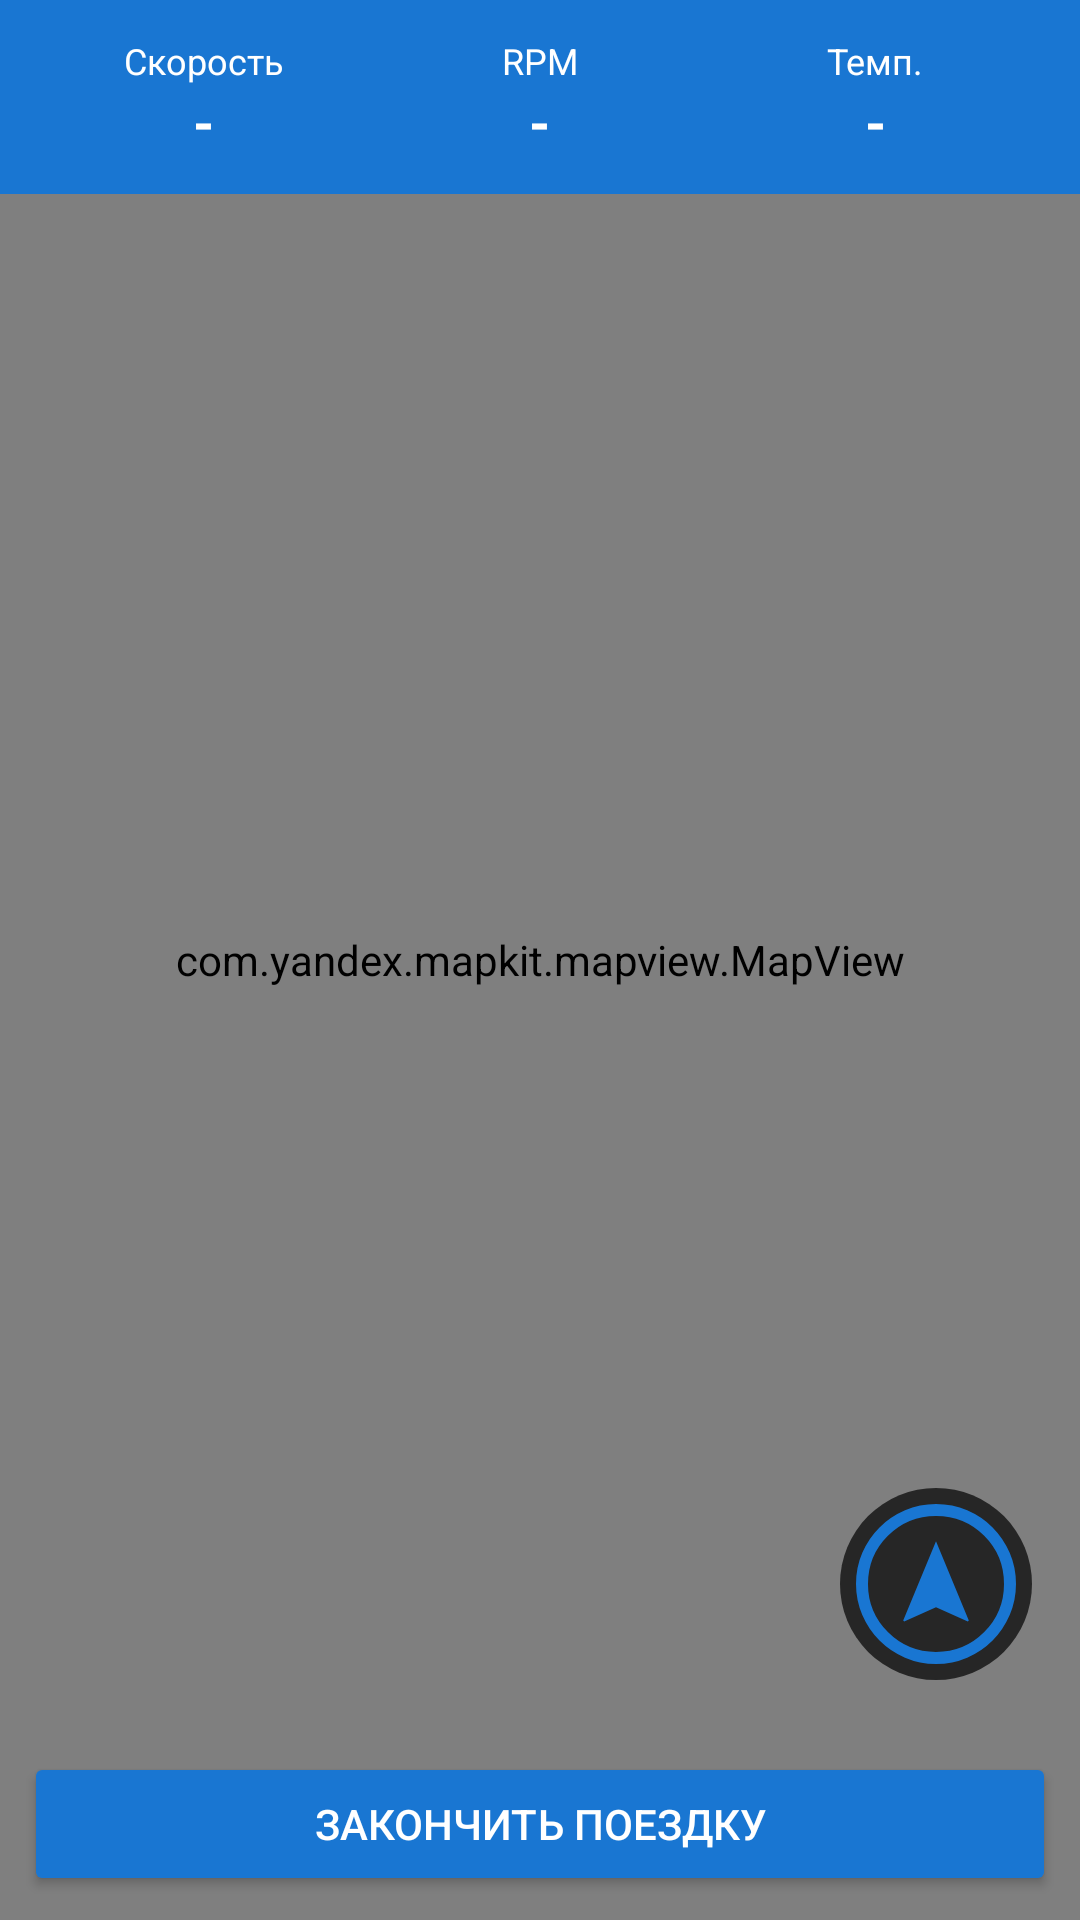

Locate icon controls on the screen. Image size 1080px x 1920px, boxes as (x1, y1, x2, y2).
follow camera: (840, 1488, 1032, 1680)
